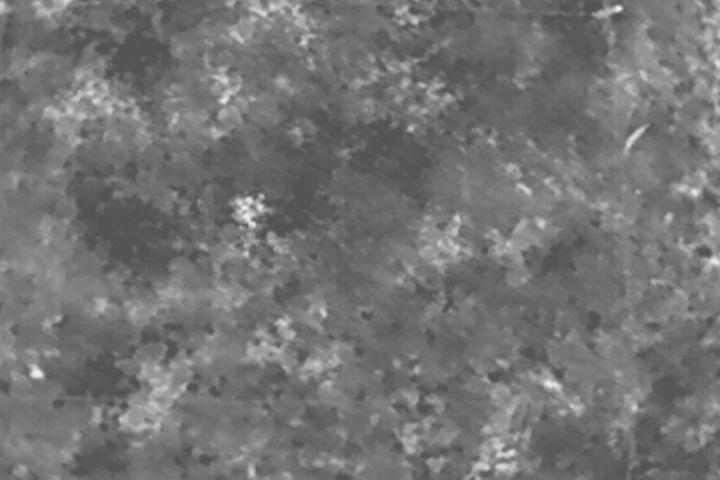landmine: (232, 189, 273, 233)
